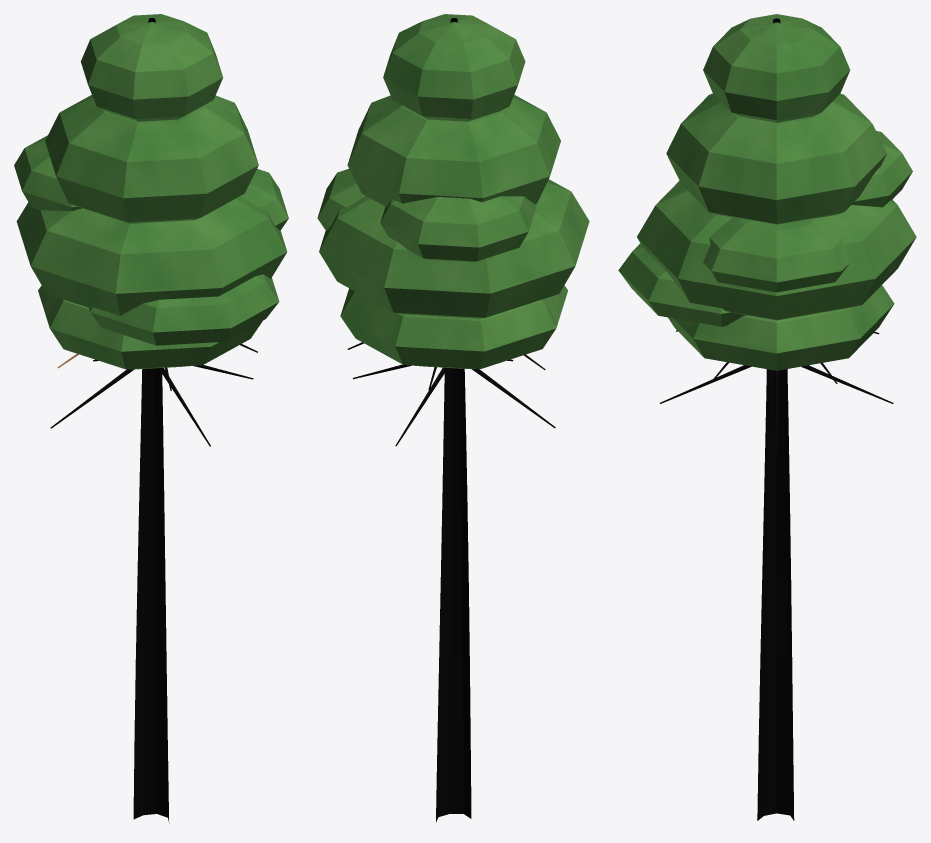
Rendered from loblolly_pine.glb.
3 views of the same model, side by side, from view 1: azimuth 30°, elevation 25°; view 2: azimuth 150°, elevation 25°; view 3: azimuth 270°, elevation 25° (orthographic).
Visible parts, largest first — view 1: PineCrown, PineTrunk; view 2: PineCrown, PineTrunk; view 3: PineCrown, PineTrunk.
Part boxes in pixels (bbox=[...]): PineCrown: bbox=[14, 14, 288, 369]; PineTrunk: bbox=[50, 18, 257, 823]; PineCrown: bbox=[317, 14, 589, 368]; PineTrunk: bbox=[347, 18, 555, 822]; PineCrown: bbox=[618, 14, 916, 370]; PineTrunk: bbox=[660, 18, 893, 820].
Bounding box in the file's own units: 7.8 × 24 × 8.1.
Materials: 2 (2 with a texture image).
